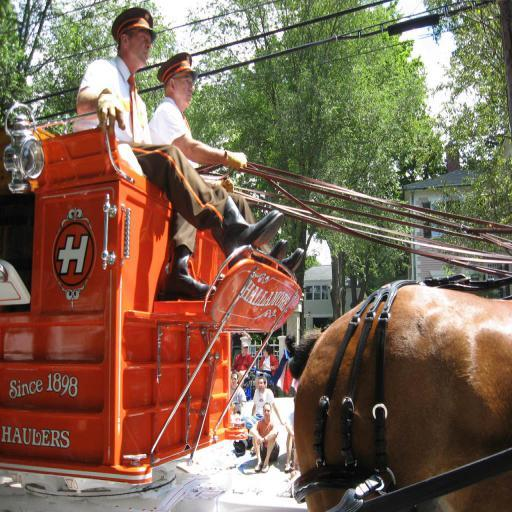Horse: (294, 282, 512, 510)
